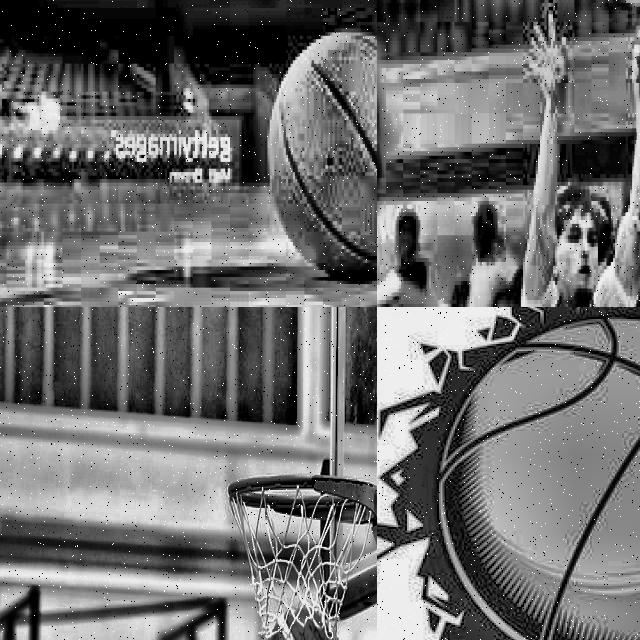Basketball: (434, 317, 640, 640), (267, 32, 377, 277), (271, 613, 329, 640)
